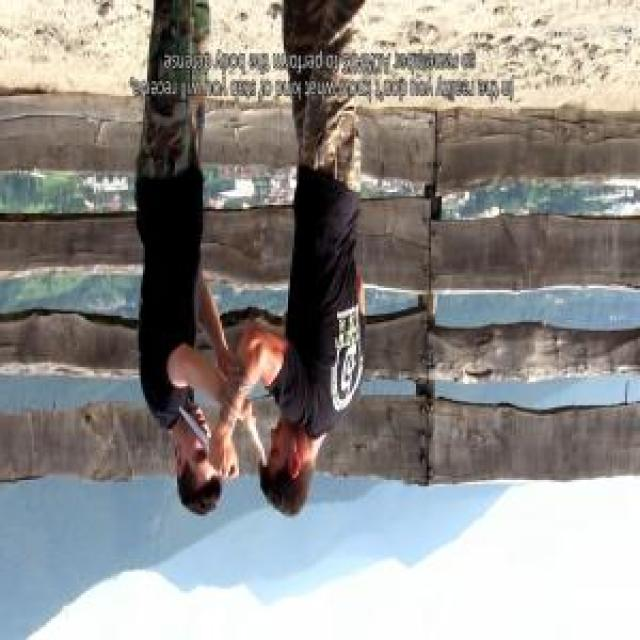knife: (176, 402, 241, 484)
